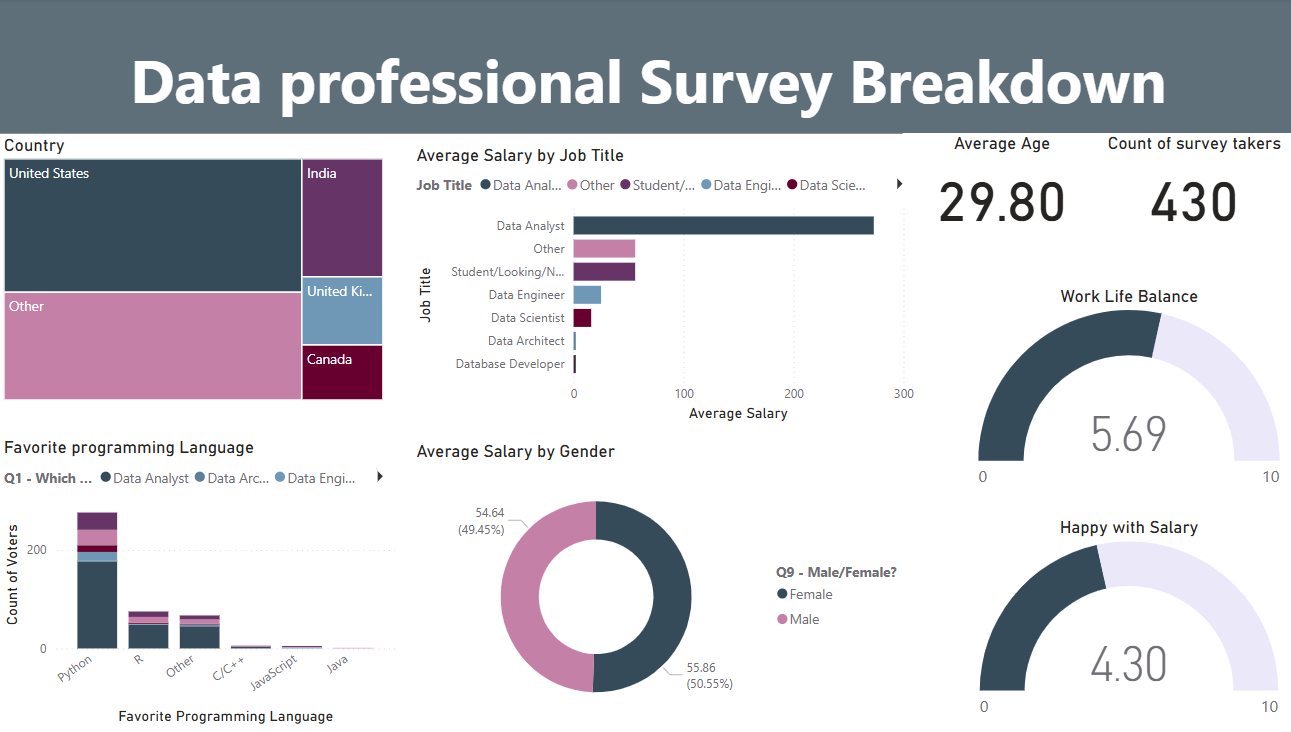

The page's visual inventory and layout, read from the dashboard file:
{"tool":"powerbi","page":{"name":"Page 1","canvas":[1280,720],"ordinal":0},"visuals":[{"type":"textbox","box":[9.6,0,1270.7,133.1],"z":0},{"type":"card","title":"Count of survey takers","fields":{"Values":["Count(Data Professional Survey.Unique ID)"]},"box":[1078.9,132,201.4,102],"z":1000},{"type":"card","title":"Average Age","fields":{"Values":["Avg(Data Professional Survey.Q10 - Current Age)"]},"box":[893.9,132,204.1,102],"z":2000},{"type":"barChart","title":"Average Salary by Job Title","fields":{"Y":["CountNonNull(Data Professional Survey.Average Salary)"],"Category":["Data Professional Survey.Q1 - Which Title Best Fits your Current Role?.1"],"Series":["Data Professional Survey.Q1 - Which Title Best Fits your Current Role?.1"]},"box":[413.6,142.9,496.6,276.2],"z":3000},{"type":"columnChart","title":"Favorite programming Language","fields":{"Category":["Data Professional Survey.Q5 - Favorite Programming Language.1"],"Y":["CountNonNull(Data Professional Survey.Unique ID)"],"Series":["Data Professional Survey.Q1 - Which Title Best Fits your Current Role?.1"]},"box":[10,429,392,286],"z":4000},{"type":"treemap","title":"Country","fields":{"Group":["Data Professional Survey.Q11 - Which Country do you live in?.1"],"Values":["CountNonNull(Data Professional Survey.Unique ID)"]},"box":[9.5,133.3,381,265.3],"z":5000},{"type":"gauge","title":"Work Life Balance","fields":{"Y":["Avg(Data Professional Survey.Q6 - How Happy are you in your Current Position with the following? (Work/Life Balance))"],"MinValue":["Min(Data Professional Survey.Q6 - How Happy are you in your Current Position with the following? (Work/Life Balance))1"],"MaxValue":["Max(Data Professional Survey.Q6 - How Happy are you in your Current Position with the following? (Work/Life Balance))2"]},"box":[949.7,281.6,330.6,208.2],"z":6000},{"type":"gauge","title":"Happy with Salary","fields":{"Y":["Avg(Data Professional Survey.Q6 - How Happy are you in your Current Position with the following? (Salary))"],"MinValue":["Min(Data Professional Survey.Q6 - How Happy are you in your Current Position with the following? (Salary))1"],"MaxValue":["Max(Data Professional Survey.Q6 - How Happy are you in your Current Position with the following? (Salary))2"]},"box":[949.7,507.5,330.6,206.8],"z":7000},{"type":"donutChart","title":"Average Salary by Gender","fields":{"Y":["Avg(Data Professional Survey.Average Salary)"],"Category":["Data Professional Survey.Q9 - Male/Female?"]},"box":[413.6,432.7,496.6,287.1],"z":8000}]}

Visuals, with their boxes in screenshot pixels (x1, y1, x2, y2), scaled from the page's 1280x720 canvas onto the 1291x732 screenshot:
textbox: <region>10, 0, 1290, 135</region>
"Count of survey takers" card: <region>1088, 134, 1290, 238</region>
"Average Age" card: <region>902, 134, 1107, 238</region>
"Average Salary by Job Title" barChart: <region>417, 145, 918, 426</region>
"Favorite programming Language" columnChart: <region>10, 436, 405, 727</region>
"Country" treemap: <region>10, 136, 394, 405</region>
"Work Life Balance" gauge: <region>958, 286, 1290, 498</region>
"Happy with Salary" gauge: <region>958, 516, 1290, 726</region>
"Average Salary by Gender" donutChart: <region>417, 440, 918, 731</region>
